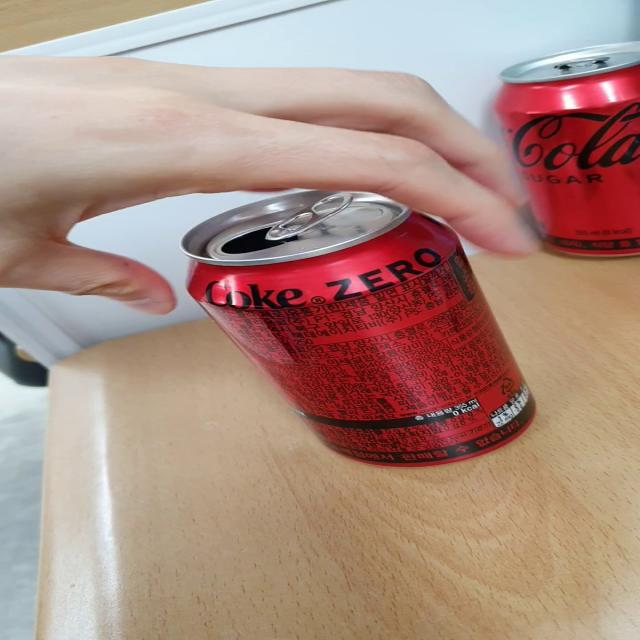coca-cola: (169, 178, 555, 466), (491, 33, 640, 262)
